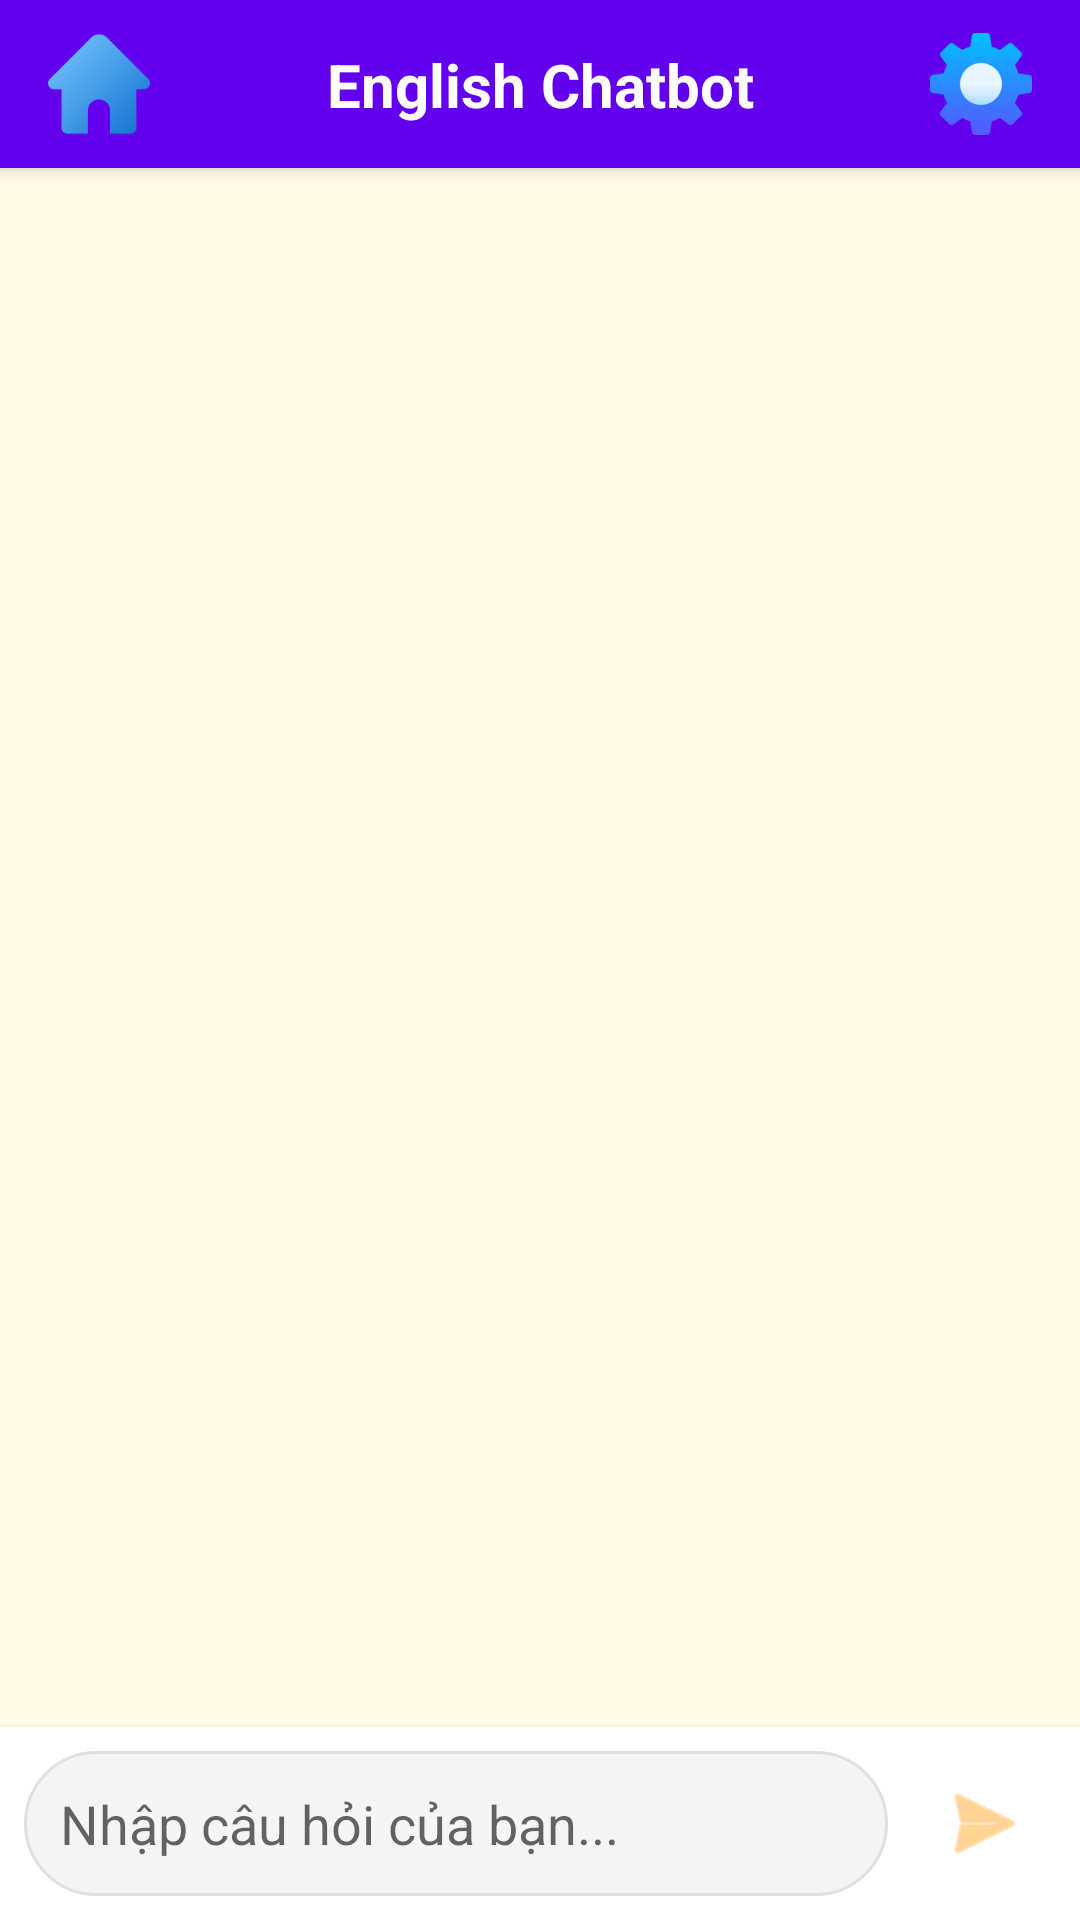

Named icons in this screenshot (1080x1920) and their centers, point (x, y):
Cài đặt: point (981, 84)
Gửi tin nhắn: point (984, 1823)
Trang chủ: point (99, 84)
